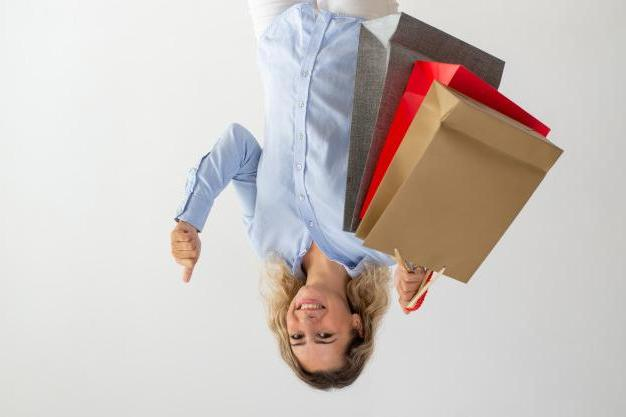thumbsdown: (170, 229, 201, 285)
